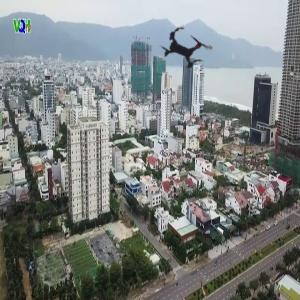drone: (147, 9, 226, 88)
